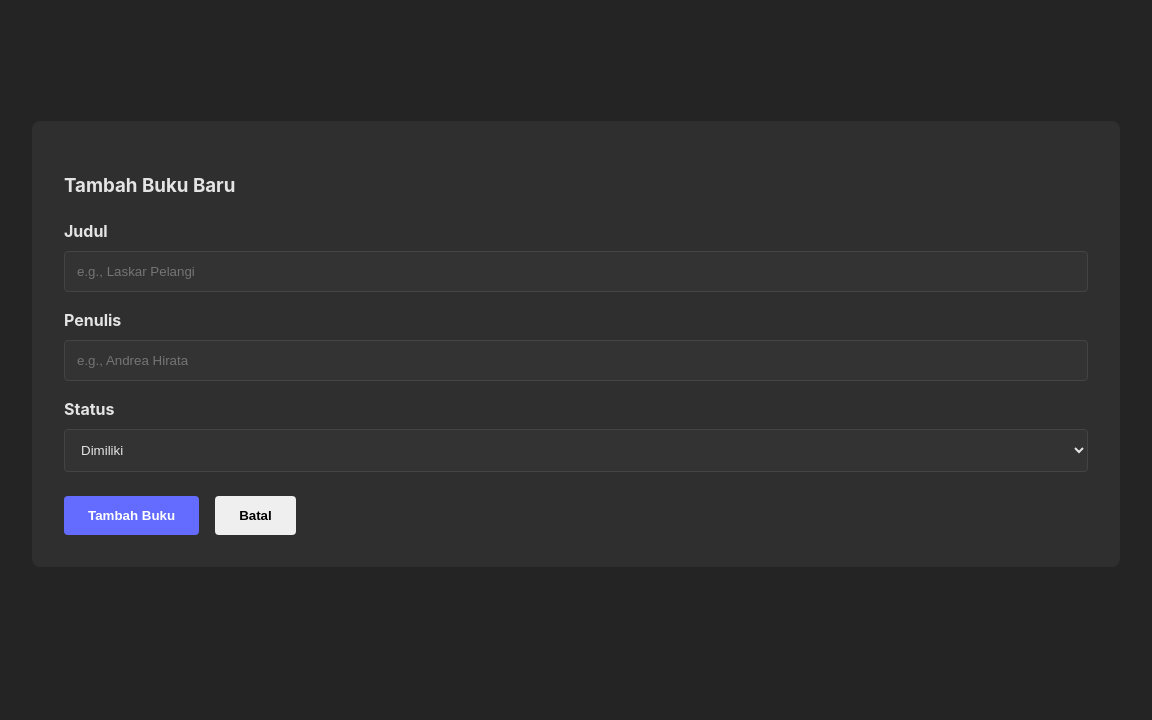
Test case: BookForm › shows error messages for empty fields on submit
This screenshot has width=1152, height=720.
Click the button "Tambah Buku": (132, 515) [64, 496, 199, 535]
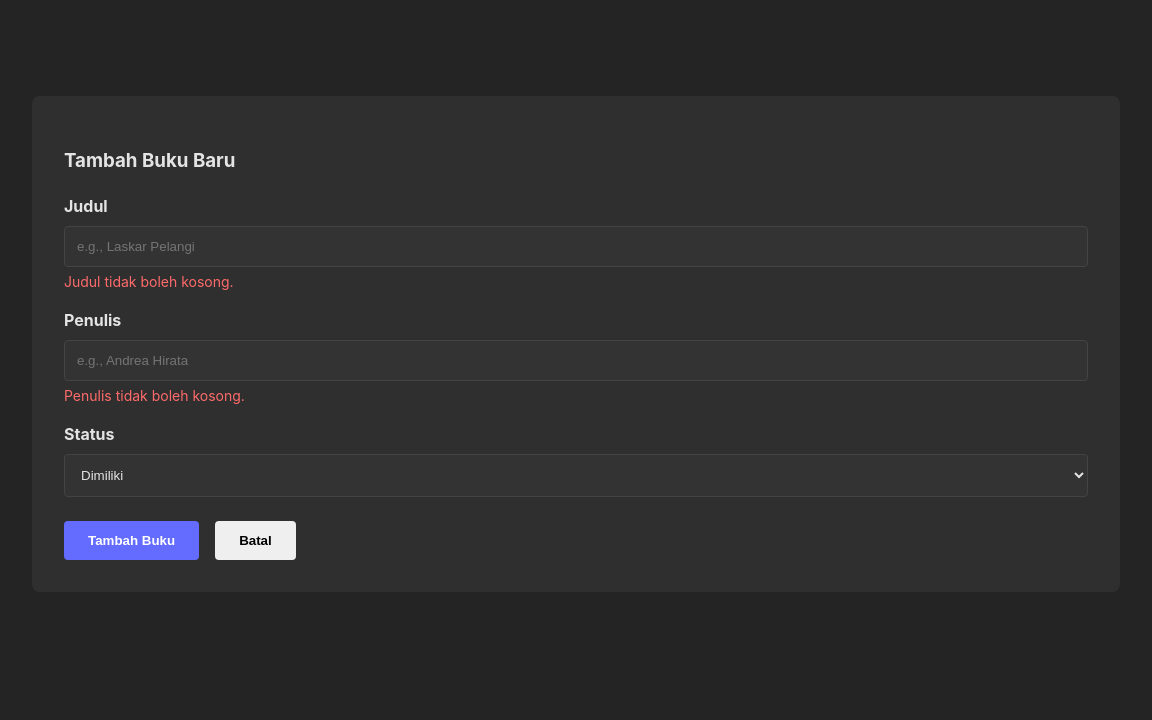
expect the text "Judul tidak boleh kosong." is shown: met, box [64, 273, 234, 290]
expect the text "Penulis tidak boleh kosong." is shown: met, box [64, 387, 245, 404]
